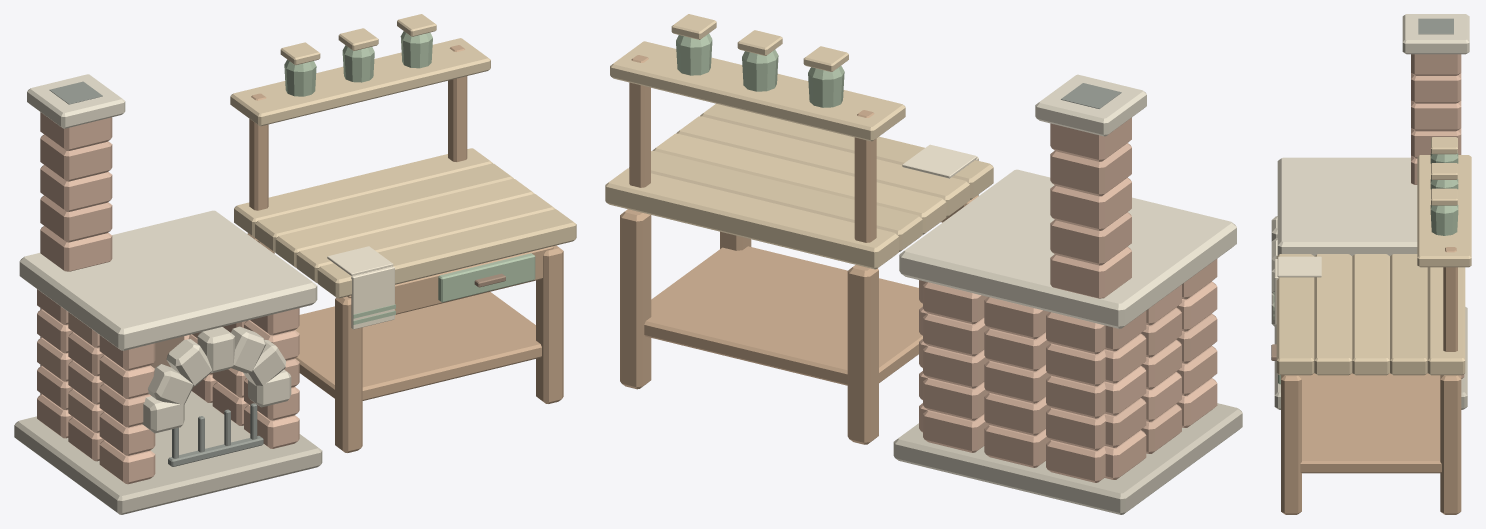
The model's file is crafted-kitchen-2-ready.glb.
3 views of the same model, side by side, from view 1: azimuth 30°, elevation 25°; view 2: azimuth 150°, elevation 25°; view 3: azimuth 270°, elevation 25° (orthographic). The views are drawn at different scales.
Parts seen in each view (by area): view 1: stove-top, shelf, hearth, upper-shelf, worktop-plank-4, worktop-plank-2, worktop-plank-1, worktop-plank, worktop-plank-3, table-leg-3, table-leg-1, chimney-cap (+44 smaller); view 2: stove-top, shelf, worktop-plank, hearth, upper-shelf, worktop-plank-2, worktop-plank-3, worktop-plank-1, table-leg, table-leg-2, worktop-plank-4, chimney-cap (+43 smaller); view 3: shelf, stove-top, worktop-plank-2, worktop-plank-3, worktop-plank-1, upper-shelf, worktop-plank-4, worktop-plank, table-leg-2, table-leg-3, chimney-cap, chimney-course-2 (+13 smaller).
Part boxes in pixels (x1,y1,x2,y2): stove-top: (19,210,317,350); shelf: (295,292,541,400); hearth: (14,391,322,514); upper-shelf: (230,38,490,126); worktop-plank-4: (317,209,576,298); worktop-plank-2: (275,178,534,267); worktop-plank-1: (255,163,513,252); worktop-plank: (234,148,492,237); worktop-plank-3: (296,194,555,282); table-leg-3: (536,245,563,403); table-leg-1: (335,296,362,452); chimney-cap: (27,74,125,128); stove-top: (899,169,1236,328); shelf: (644,246,922,385); worktop-plank: (605,168,898,269); hearth: (893,403,1242,514); upper-shelf: (610,41,905,141); worktop-plank-2: (652,133,946,234); worktop-plank-3: (676,116,969,217); worktop-plank-1: (629,151,922,251); table-leg: (847,265,878,444); table-leg-2: (620,209,651,389); worktop-plank-4: (700,103,993,199); chimney-cap: (1035,74,1146,136); shelf: (1300,373,1441,473); stove-top: (1277,157,1417,255); worktop-plank-2: (1352,254,1389,375); worktop-plank-3: (1314,254,1352,375); worktop-plank-1: (1390,254,1427,375); upper-shelf: (1417,155,1471,267); worktop-plank-4: (1276,254,1314,375); worktop-plank: (1427,267,1465,375); table-leg-2: (1440,375,1461,514); table-leg-3: (1281,375,1301,514); chimney-cap: (1402,14,1469,54); chimney-course-2: (1411,100,1461,131).
Bounding box in the file's own units: 2.29 × 1.66 × 0.956.
